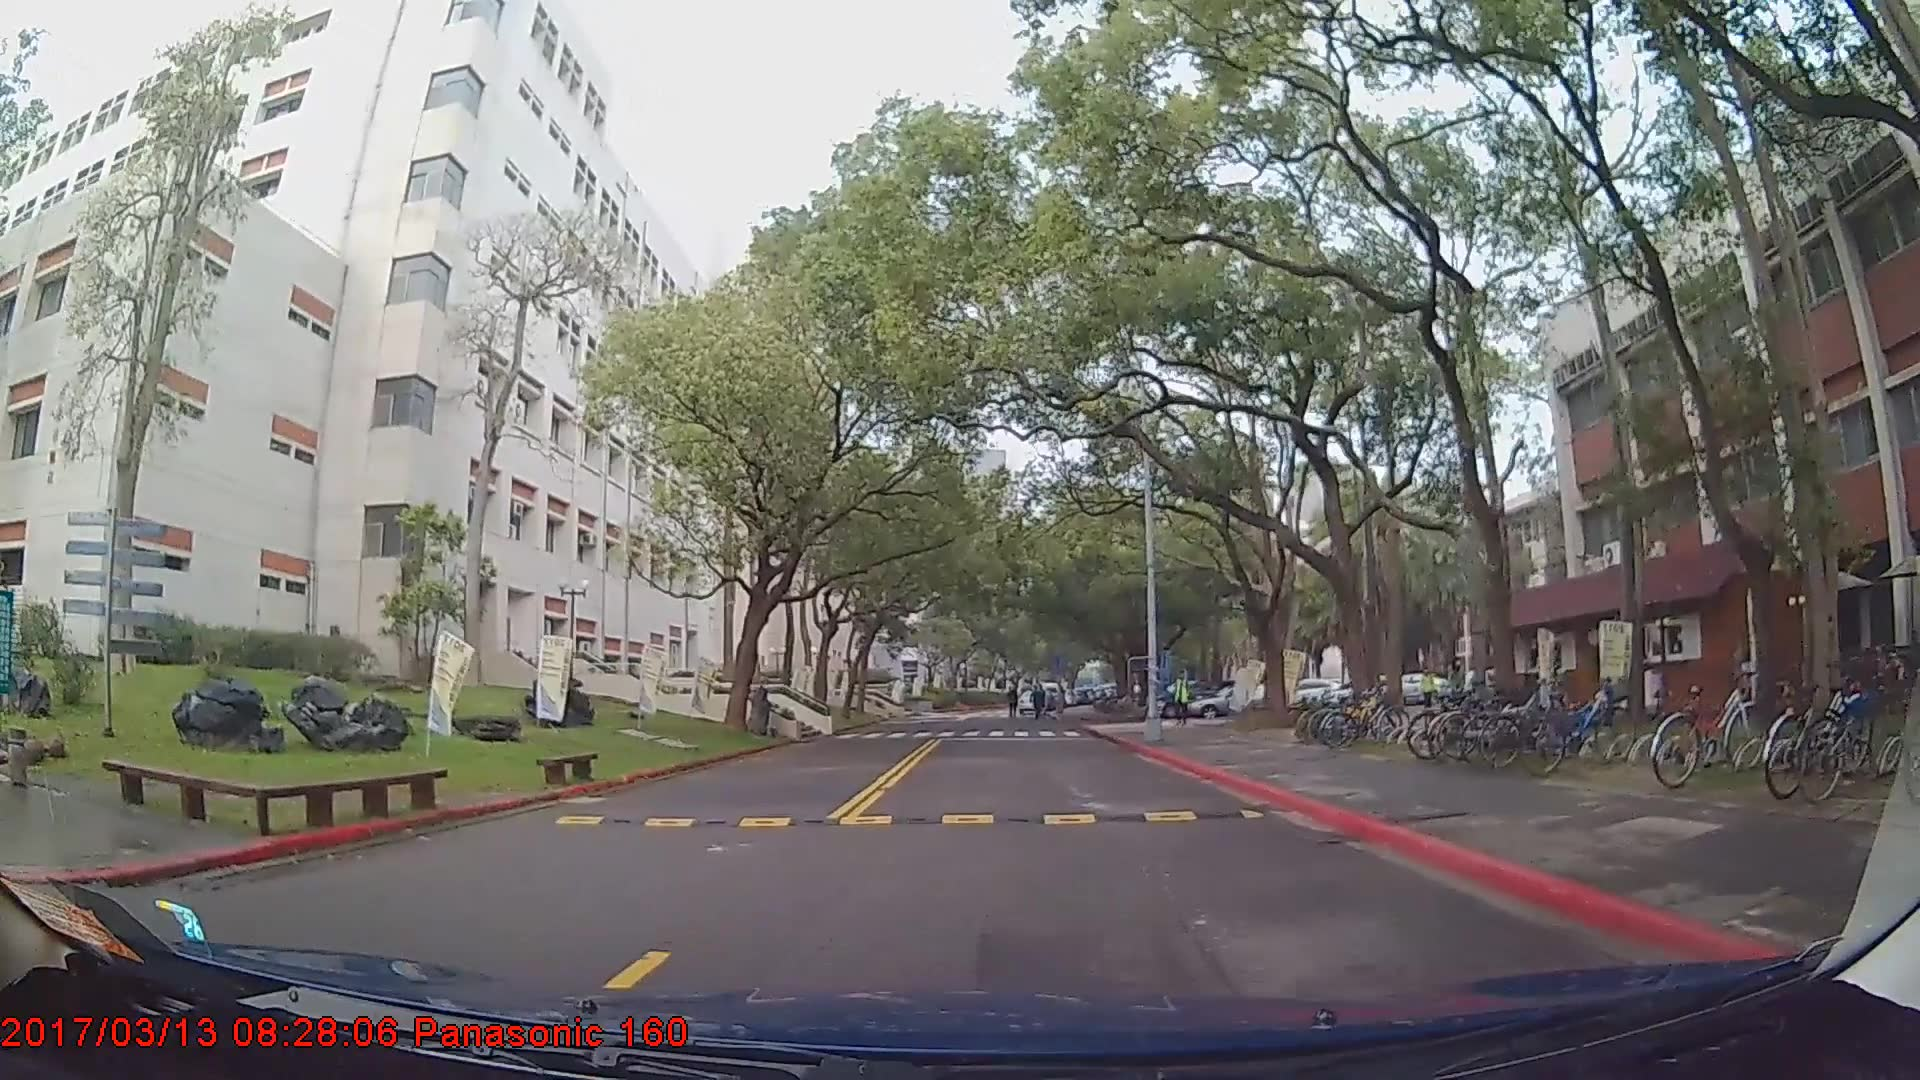vehicle: (1183, 682, 1276, 723)
